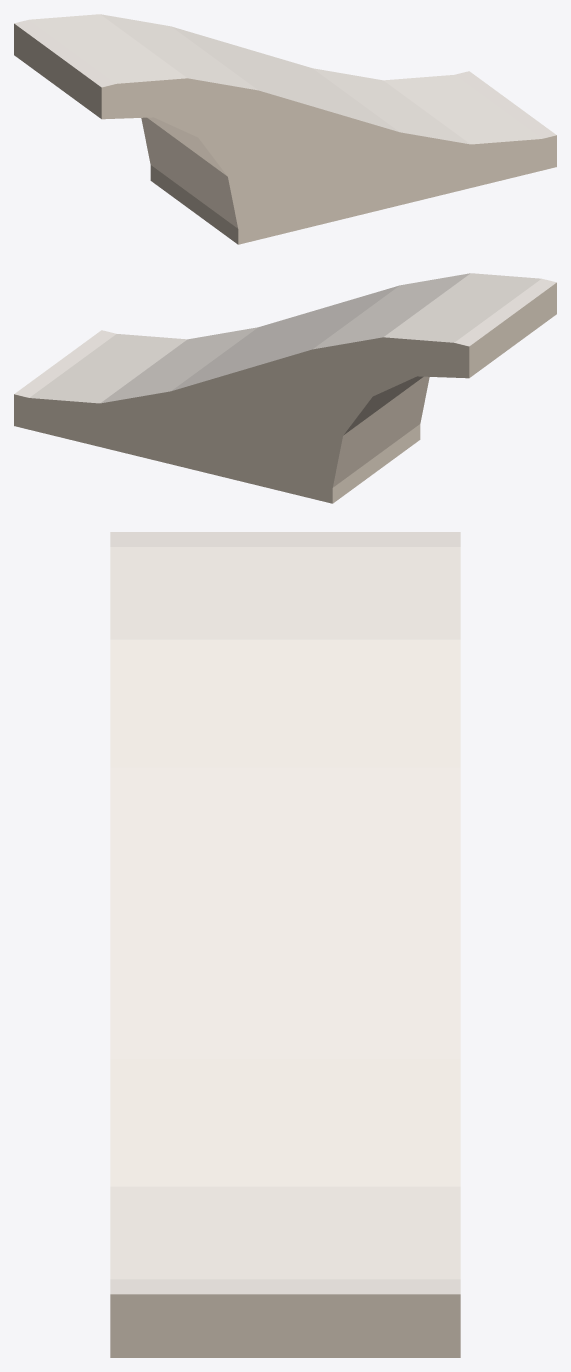
Rendered from temple_Floor_Bridge_Ramp.glb.
3 views of the same model, one above another, from view 1: azimuth 30°, elevation 25°; view 2: azimuth 150°, elevation 25°; view 3: azimuth 270°, elevation 25° (orthographic). The views are drawn at different scales.
Parts seen in each view (by area): view 1: object1; view 2: object1; view 3: object1.
Boxes of the visible parts, x1,y1,x2,y2 form: object1: [14, 14, 556, 244]; object1: [14, 273, 556, 503]; object1: [110, 532, 460, 1357].
Size of the model in its own units: 3 by 1.2 by 1.
